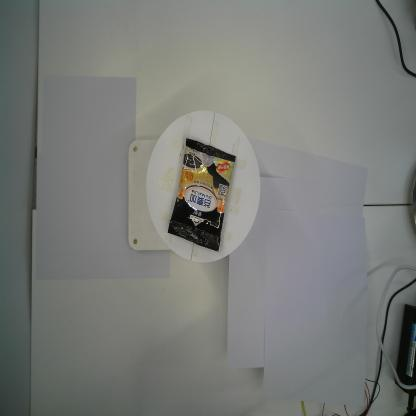Instant Drink: (166, 137, 237, 253)
